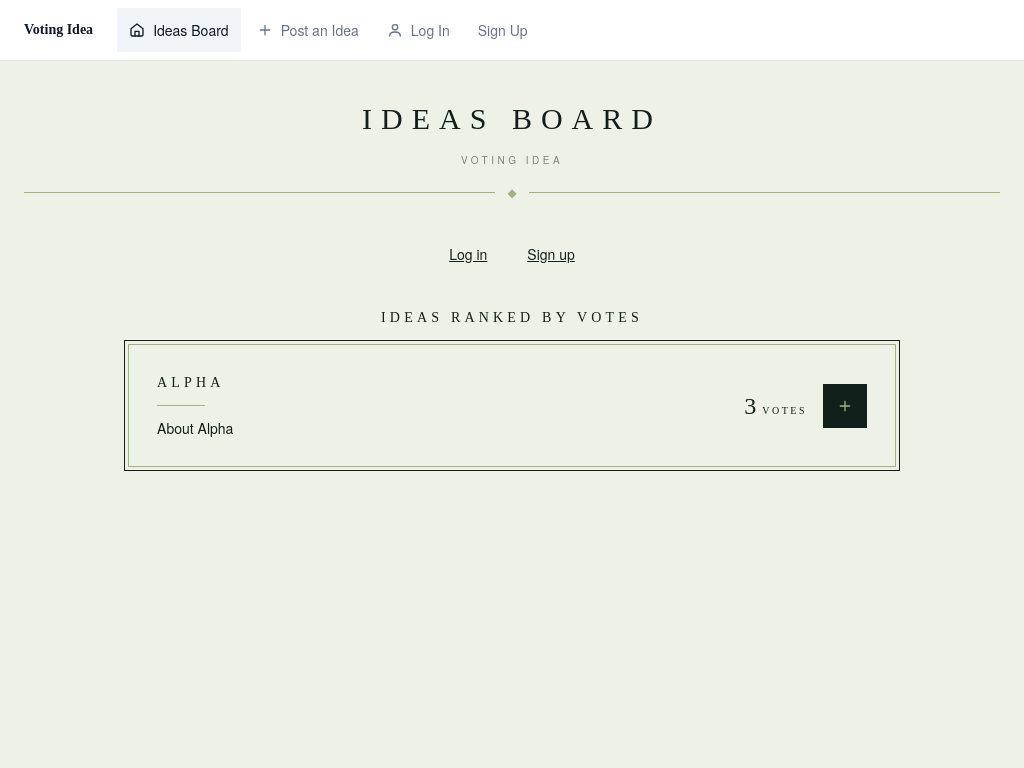
Test: Board upvote › [AC-033] a visitor's vote attempt shows the prompt, sends no vote and keeps the count
This screenshot has width=1024, height=768.
Click the button named "Vote for Alpha".
click(845, 406)  # box [823,384,867,428]
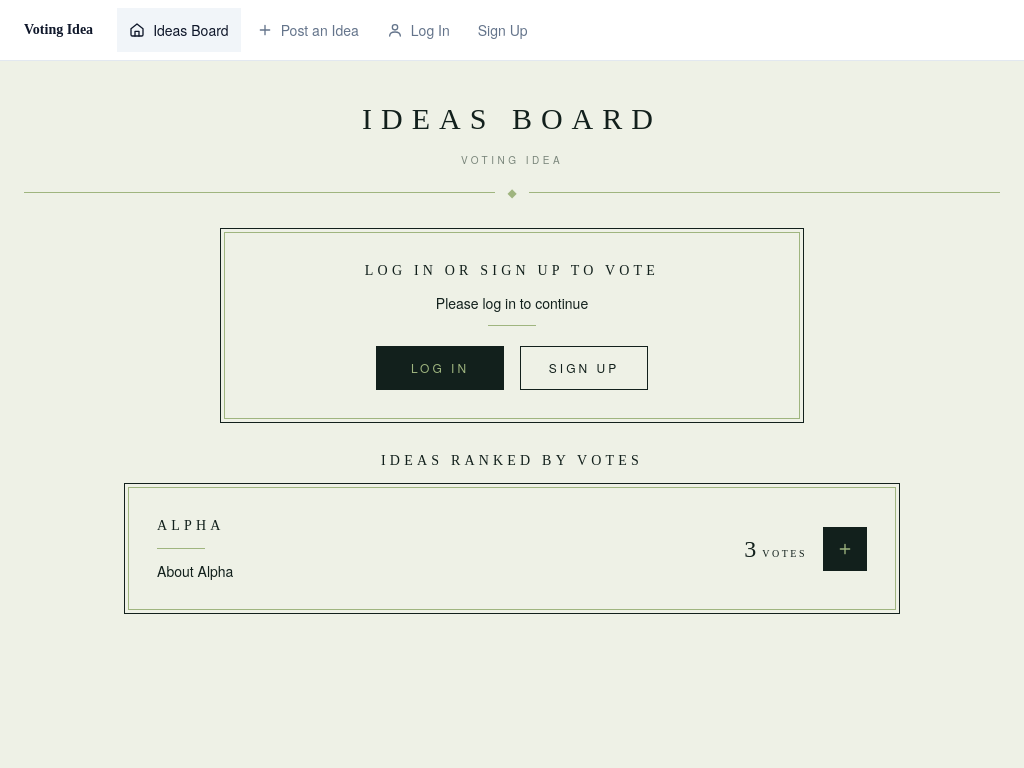
Now the dialog with test id "log-in-or-sign-up-to-vote-modal" shows "Log in or sign up to vote", box [365,263,659,278]
Now the button with test id "log-in-link" is shown, box [376,346,504,390]
Now the button with test id "sign-up-link" is shown, box [520,346,648,390]
